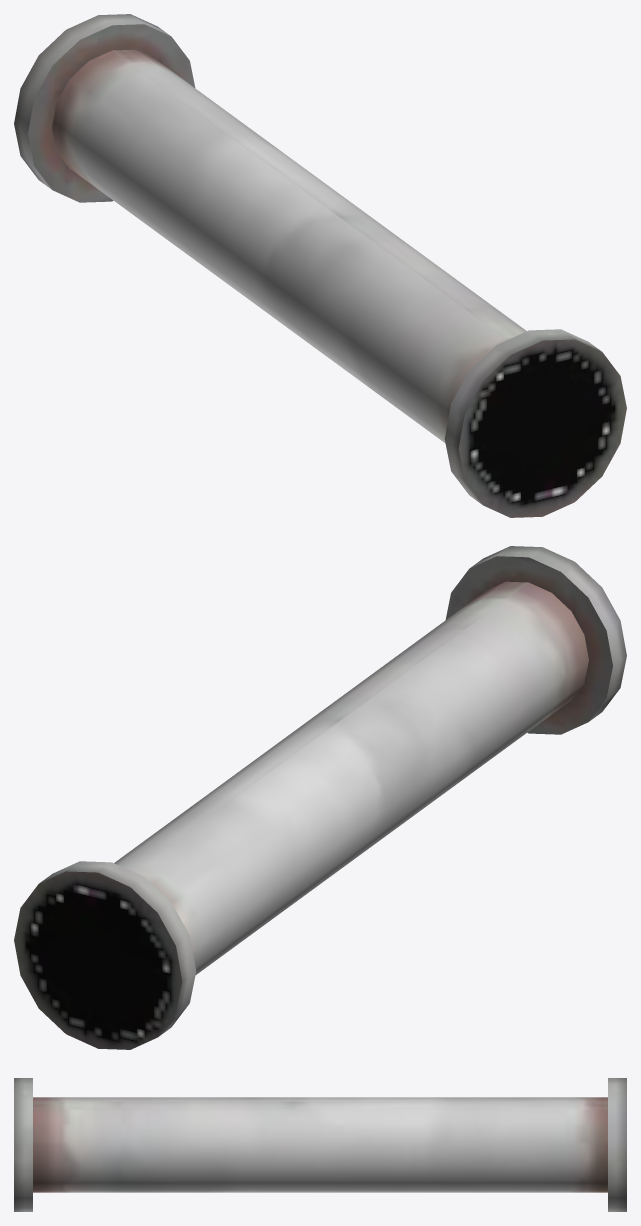
3 views of the same model, one above another, from view 1: azimuth 30°, elevation 25°; view 2: azimuth 150°, elevation 25°; view 3: azimuth 270°, elevation 25° (orthographic). The views are drawn at different scales.
Parts seen in each view (by area): view 1: body0_model0_lod0_mesh0; view 2: body0_model0_lod0_mesh0; view 3: body0_model0_lod0_mesh0.
Part boxes in pixels (x1,y1,x2,y2): body0_model0_lod0_mesh0: (14, 14, 626, 517); body0_model0_lod0_mesh0: (14, 546, 626, 1049); body0_model0_lod0_mesh0: (14, 1078, 626, 1211).
Size of the model in its own units: 14 by 14 by 64.
Materials: 1 (1 with a texture image).
